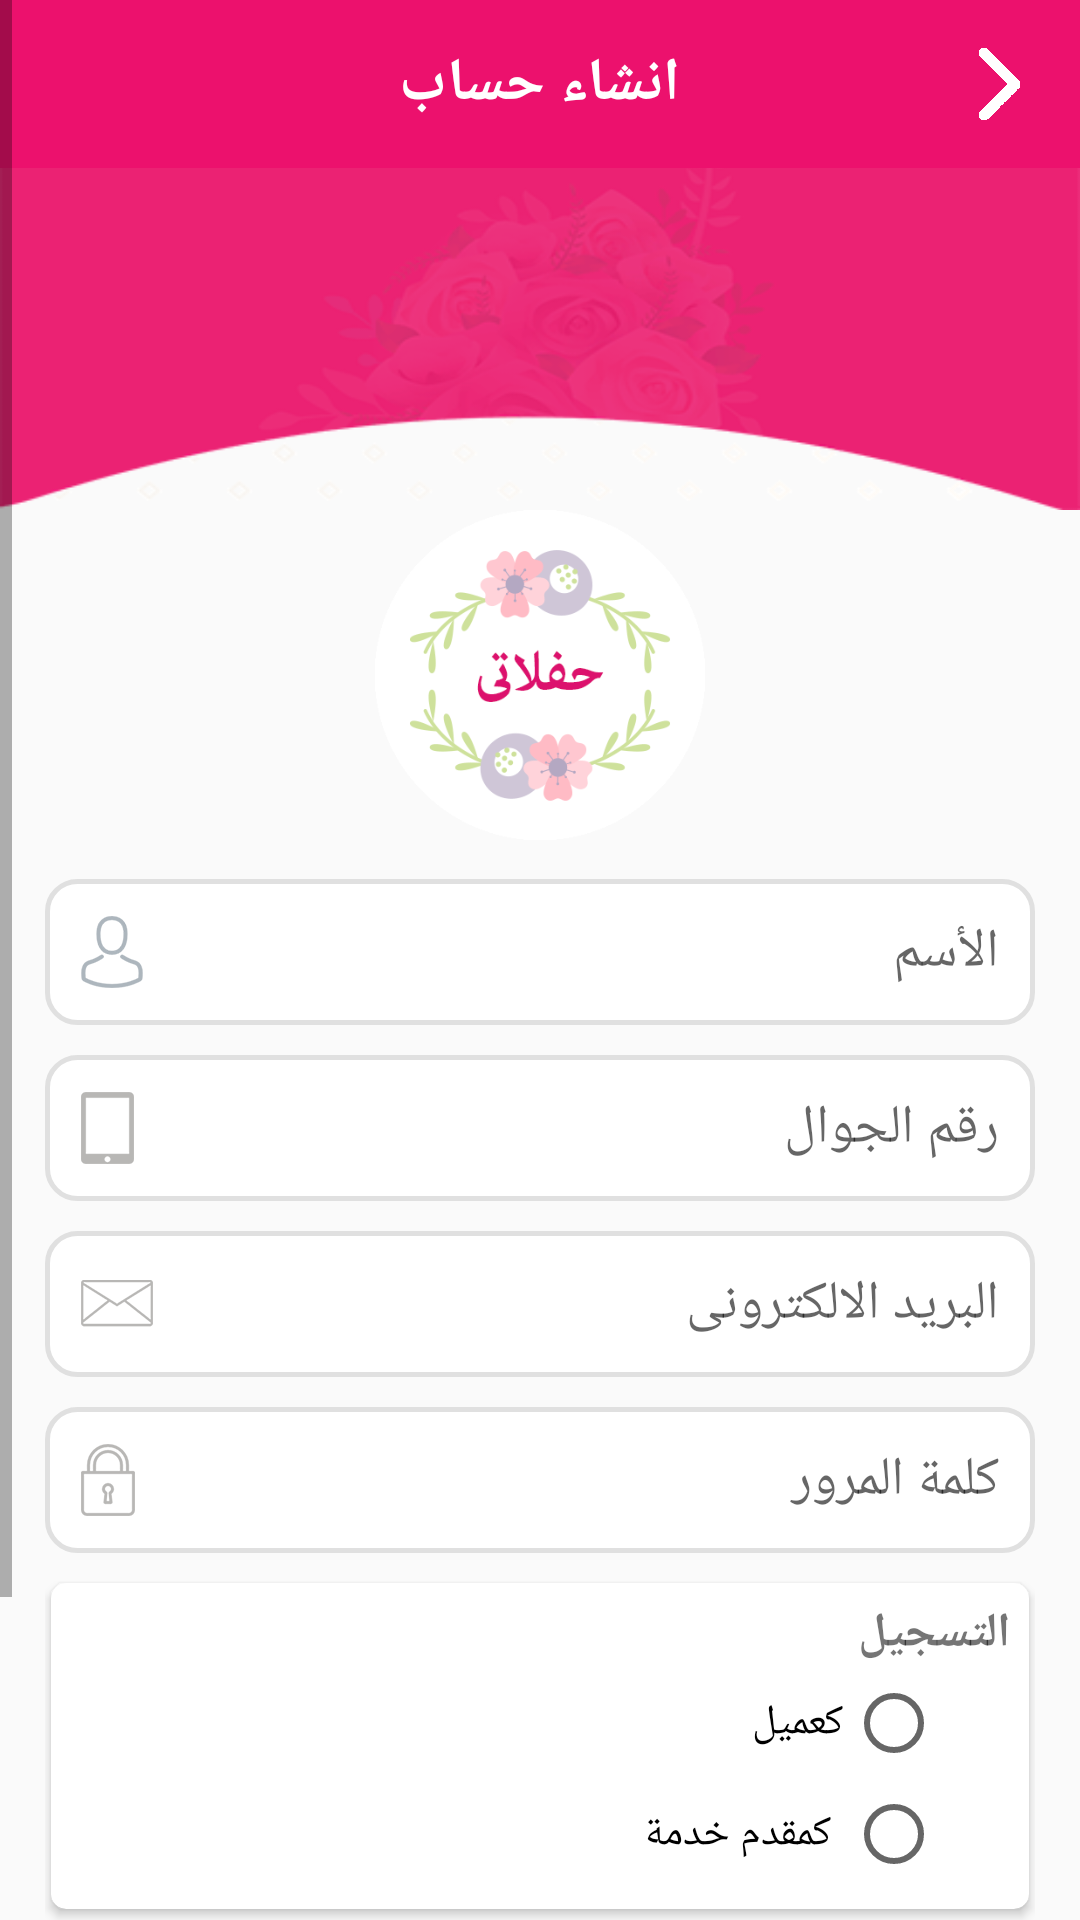

Where to tap for icons on this 1080 × 1920 app screen, as (x,y):
arwo: (999,84)
